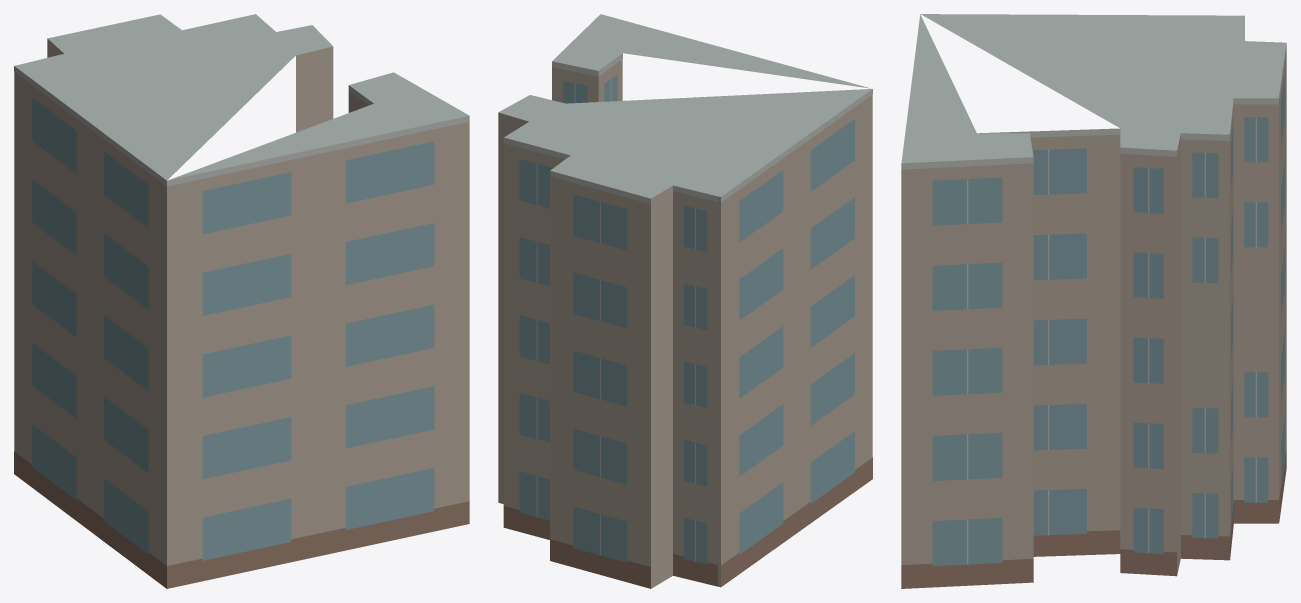
Rendered from survey-upis-32997784.glb.
The picture shows the model from 3 angles, left to right: view 1: azimuth 30°, elevation 25°; view 2: azimuth 150°, elevation 25°; view 3: azimuth 270°, elevation 25°; orthographic projection. The views are drawn at different scales.
Visible parts, largest first — view 1: survey-upis-32997784.tmp; view 2: survey-upis-32997784.tmp; view 3: survey-upis-32997784.tmp.
Boxes of the visible parts, box(x1,y1,x2,y2) form: survey-upis-32997784.tmp: box(14, 14, 469, 588); survey-upis-32997784.tmp: box(498, 14, 872, 588); survey-upis-32997784.tmp: box(901, 14, 1286, 588).
Size of the model in its own units: 12.66 by 16.8 by 13.79.
